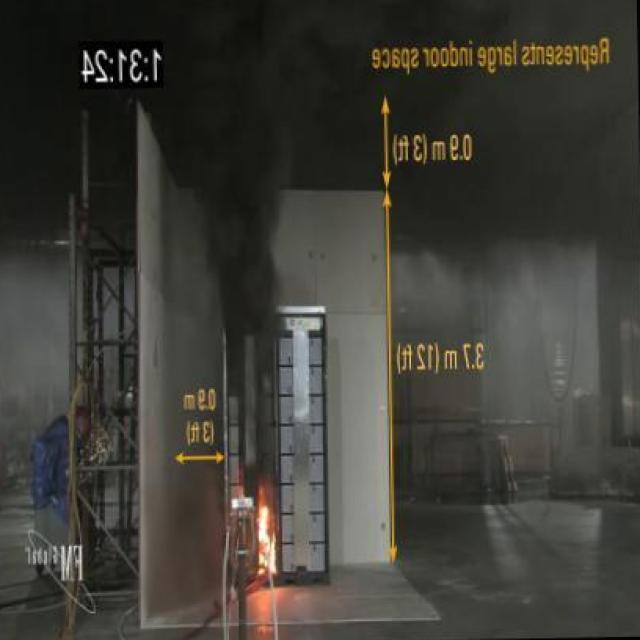fire: (186, 70, 305, 296)
smoke: (254, 470, 282, 580)
